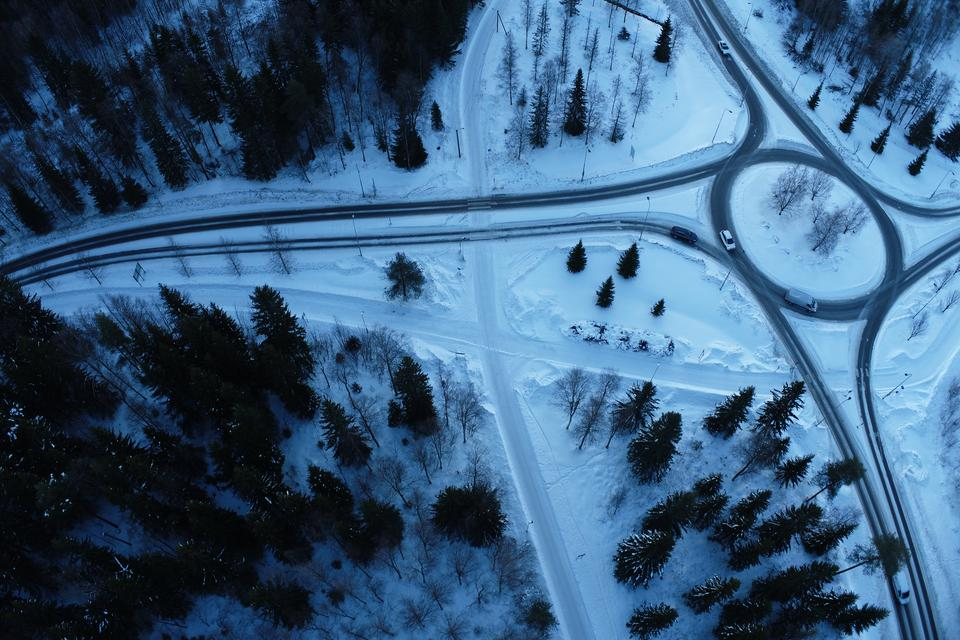intersection: (773, 354, 895, 408), (455, 185, 504, 252)
roundabout: (696, 123, 919, 329)
